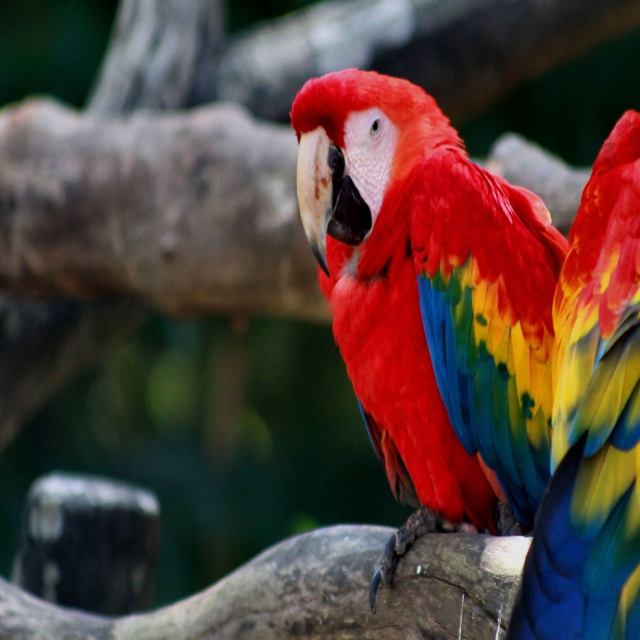Parrot: (290, 61, 571, 613), (504, 108, 639, 639)
